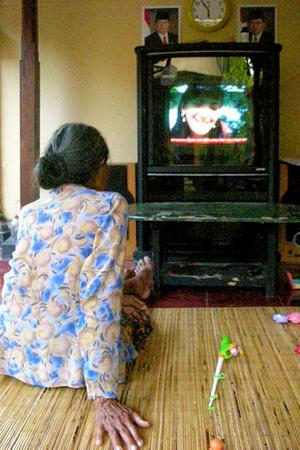person: (3, 125, 152, 449)
